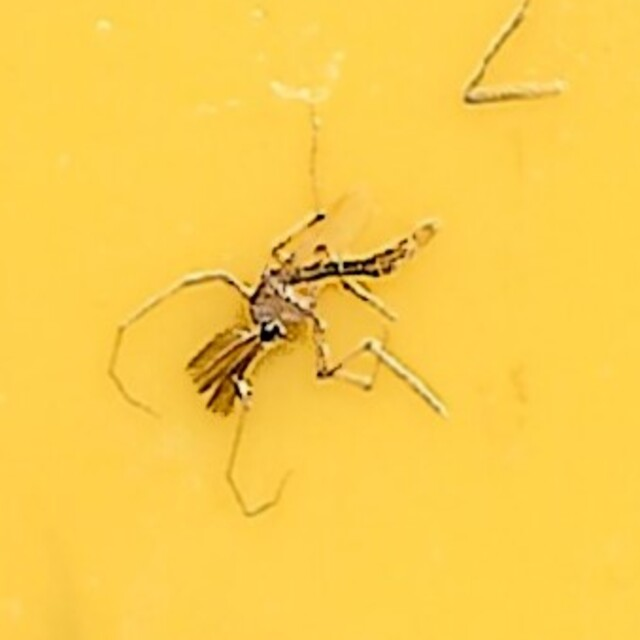Nematocera: (189, 215, 451, 425)
